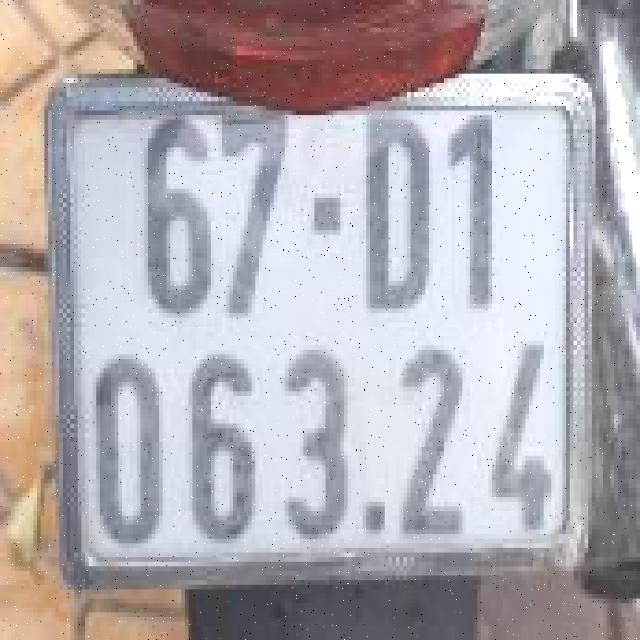0: (78, 345, 178, 548)
1: (442, 106, 524, 313)
2: (396, 334, 473, 555)
3: (279, 329, 361, 536)
4: (485, 332, 566, 544)
6: (132, 88, 216, 322), (180, 332, 268, 544)
7: (218, 92, 296, 322)
D: (353, 90, 442, 324)
